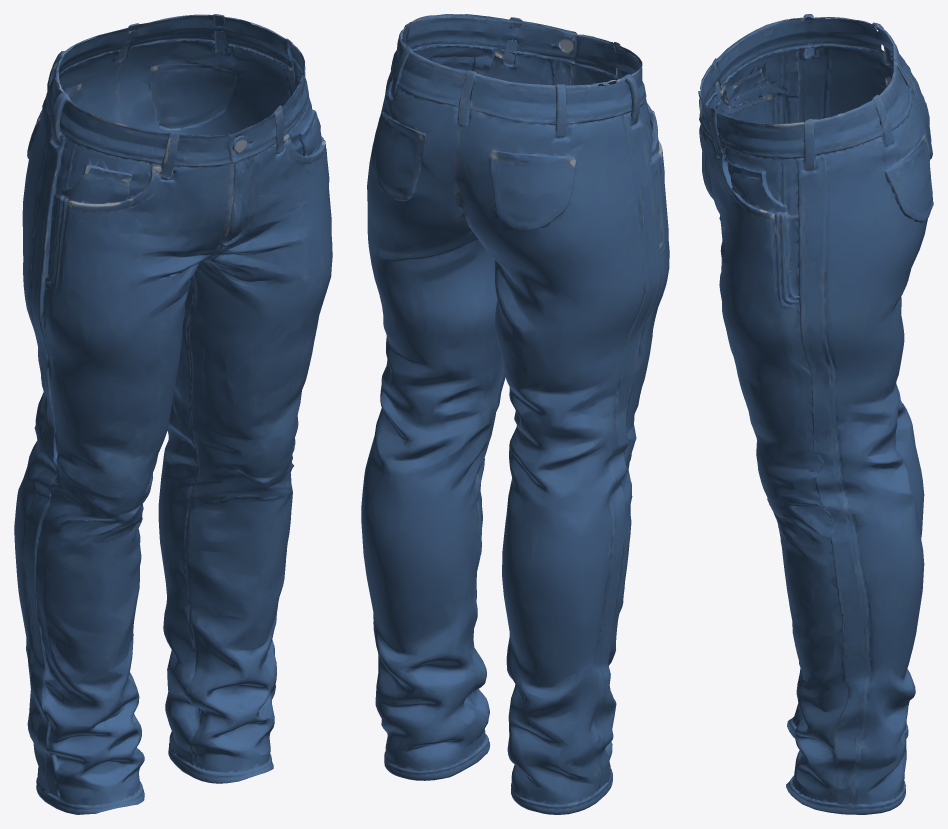
The model's file is bottom_jeans.glb.
3 renders of one model, left to right at view 1: azimuth 30°, elevation 25°; view 2: azimuth 150°, elevation 25°; view 3: azimuth 270°, elevation 25°, orthographic. The views are drawn at different scales.
Visible parts, largest first — view 1: jeans; view 2: jeans; view 3: jeans.
Part boxes in pixels (x1=…): jeans: x1=14, y1=14, x2=332, y2=814; jeans: x1=361, y1=14, x2=669, y2=814; jeans: x1=698, y1=14, x2=933, y2=814.
Bounding box in the file's own units: 0.3616 × 0.8985 × 0.2706.
Materials: 1 (1 with a texture image).
